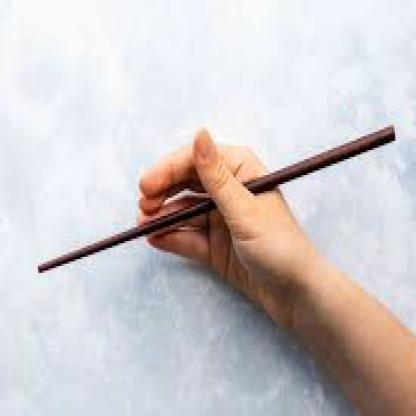chopstick: (38, 120, 395, 273)
